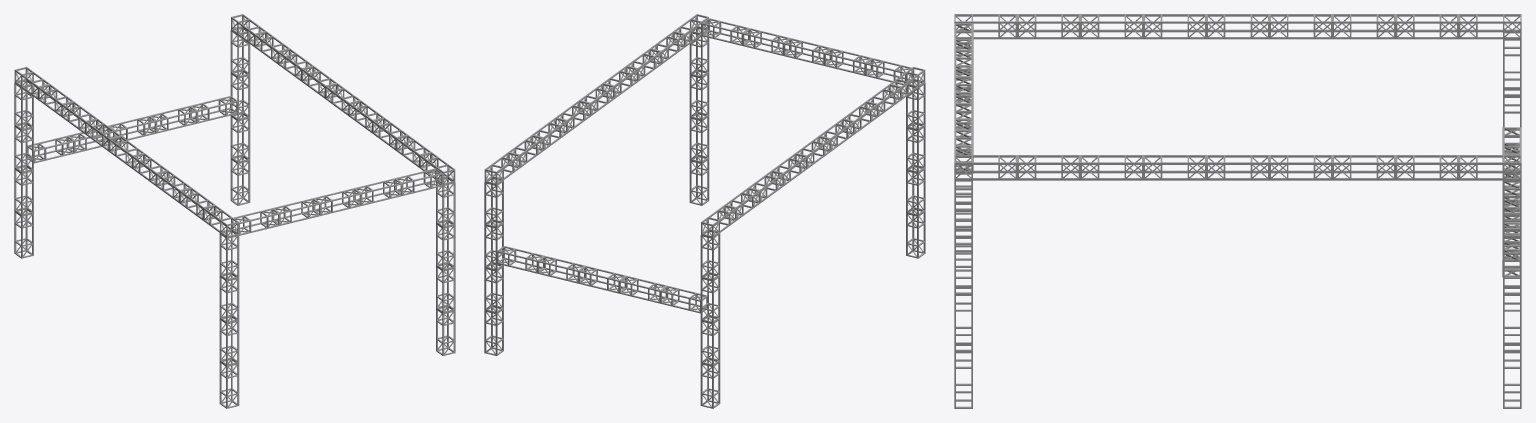
File: LightCameraRig.fbx
3 views of the same model, side by side, from view 1: azimuth 30°, elevation 25°; view 2: azimuth 150°, elevation 25°; view 3: azimuth 270°, elevation 25° (orthographic). The views are drawn at different scales.
Parts seen in each view (by area): view 1: LightSystemSupport.002, LightSystemSupport.001, LightSystemSupport, LightSystemSupport.003, LightSystemSupport.004; view 2: LightSystemSupport.002, LightSystemSupport, LightSystemSupport.001, LightSystemSupport.004, LightSystemSupport.003; view 3: LightSystemSupport.002, LightSystemSupport, LightSystemSupport.001, LightSystemSupport.003, LightSystemSupport.004.
Boxes of the visible parts, <box> form: LightSystemSupport.002: <box>14,14,455,237</box>; LightSystemSupport.001: <box>219,178,455,408</box>; LightSystemSupport: <box>14,27,250,258</box>; LightSystemSupport.003: <box>232,168,443,235</box>; LightSystemSupport.004: <box>27,96,238,163</box>; LightSystemSupport.002: <box>484,14,925,237</box>; LightSystemSupport: <box>484,178,720,408</box>; LightSystemSupport.001: <box>689,27,925,258</box>; LightSystemSupport.004: <box>496,246,707,313</box>; LightSystemSupport.003: <box>701,18,912,84</box>; LightSystemSupport.002: <box>954,14,1521,180</box>; LightSystemSupport: <box>1503,32,1521,408</box>; LightSystemSupport.001: <box>954,33,972,408</box>; LightSystemSupport.003: <box>954,23,973,173</box>; LightSystemSupport.004: <box>1502,127,1521,277</box>.
Size of the model in its own units: 1218 by 935 by 1956.
